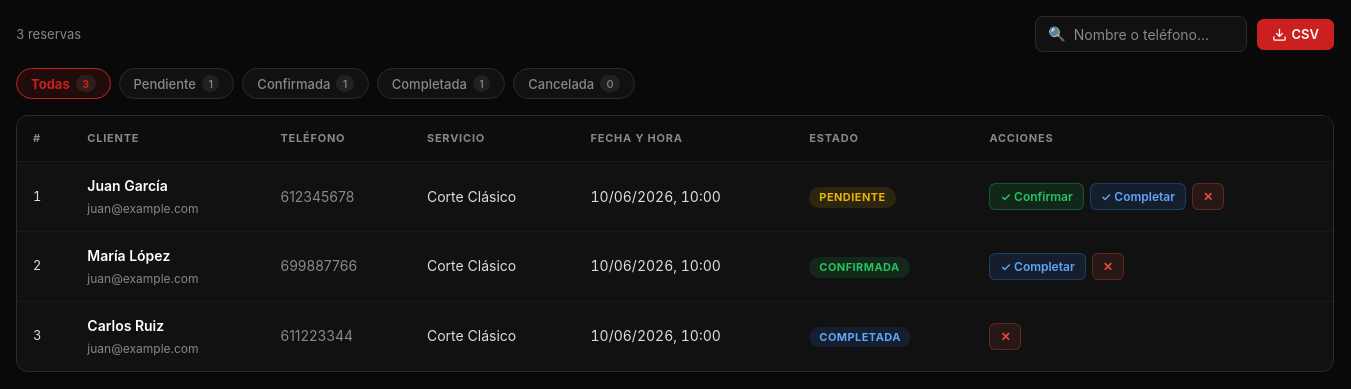
Test: AdminReservas › filtra reservas por teléfono al escribir en el buscador
Check: the text "Juan García" is shown, box [87,177,168,194]
Type "699887766" into the search field named "buscar reserva".
click(1154, 34); type("699887766")  # box [1074,26,1234,43]
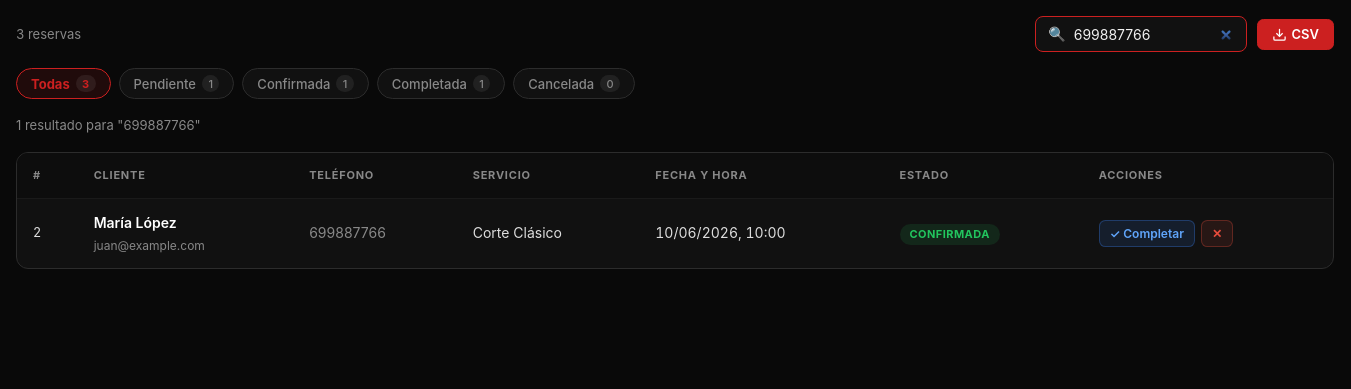
Check: the text "María López" is shown, box [94,214,177,231]
Check: the text "Juan García" is gone
